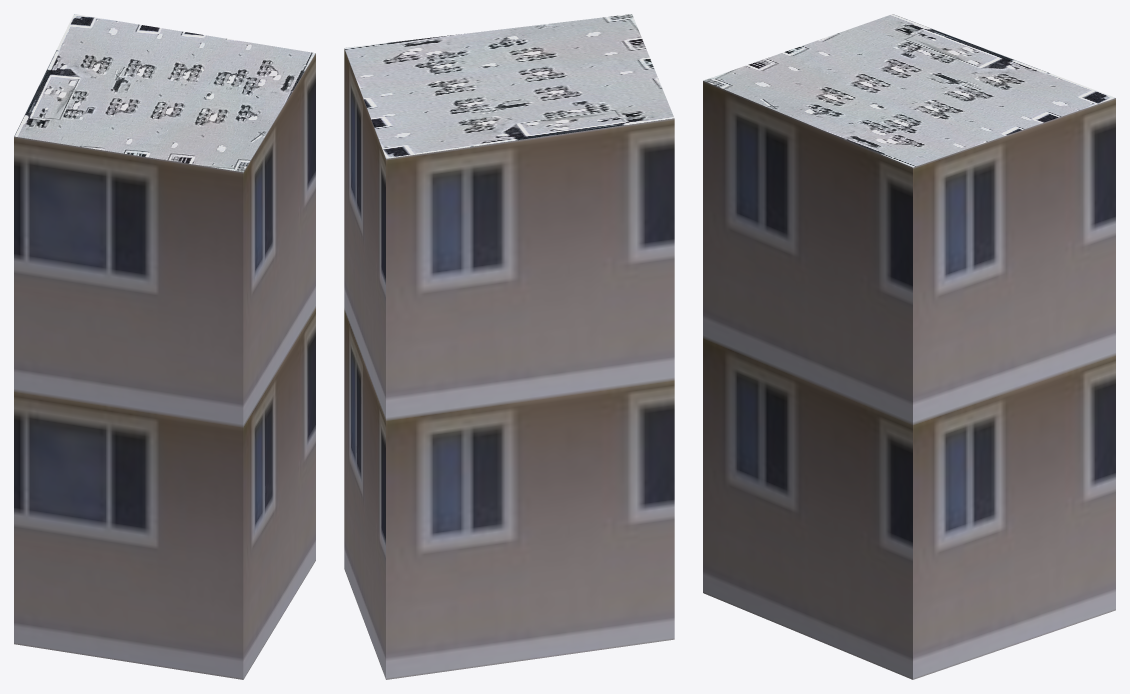
The model's file is ResTex__1730.fbx.
3 views of the same model, side by side, from view 1: azimuth 30°, elevation 25°; view 2: azimuth 150°, elevation 25°; view 3: azimuth 270°, elevation 25° (orthographic). The views are drawn at different scales.
Visible parts, largest first — view 1: CityEngineMaterial_21_m, CityEngineMaterial_8_m; view 2: CityEngineMaterial_21_m, CityEngineMaterial_8_m; view 3: CityEngineMaterial_21_m, CityEngineMaterial_8_m.
Boxes of the visible parts, <box> form: CityEngineMaterial_21_m: <box>14,53,315,679</box>; CityEngineMaterial_8_m: <box>14,14,315,172</box>; CityEngineMaterial_21_m: <box>344,48,674,679</box>; CityEngineMaterial_8_m: <box>344,14,674,158</box>; CityEngineMaterial_21_m: <box>703,81,1115,679</box>; CityEngineMaterial_8_m: <box>703,14,1114,167</box>.
Size of the model in its own units: 3.86 by 6 by 4.38.
Materials: 2 (2 with a texture image).
